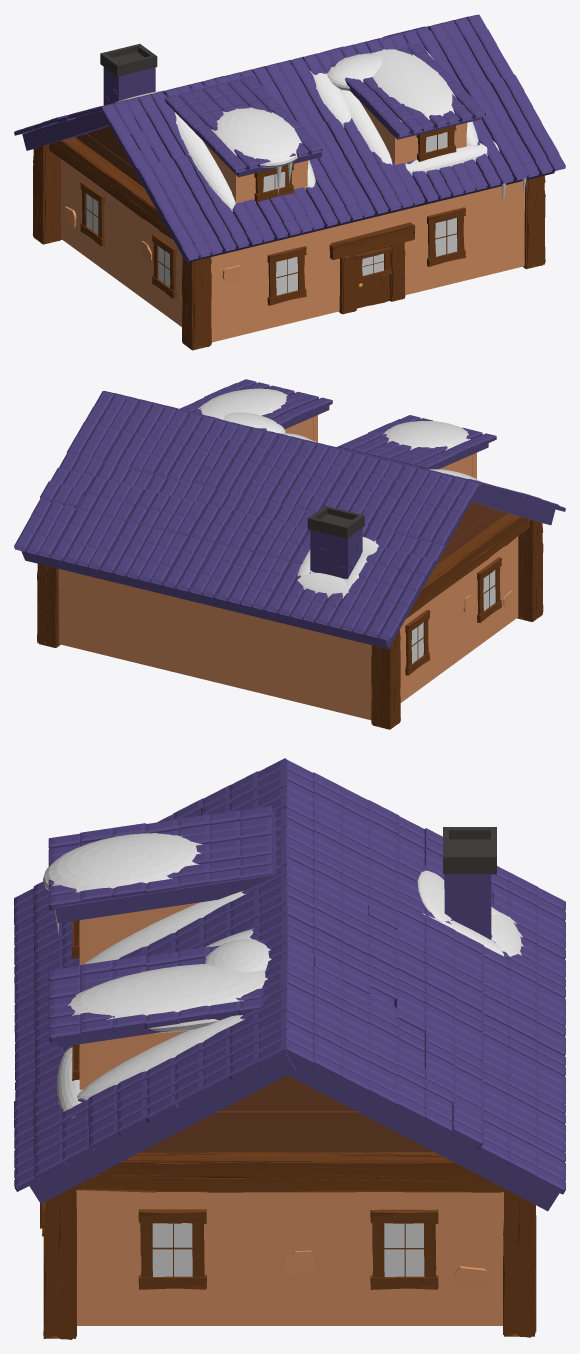
The model's file is BHouse2.fbx.
3 views of the same model, one above another, from view 1: azimuth 30°, elevation 25°; view 2: azimuth 150°, elevation 25°; view 3: azimuth 270°, elevation 25° (orthographic). The views are drawn at different scales.
Parts seen in each view (by area): view 1: Cube.805, Cube.855, Sphere.118, Sphere.119, Cube.1549, Cube.858, Cube.1535, Sphere.123, Cube.1515, Cube.857, Cube.1540, Cube.984 (+20 smaller); view 2: Cube.854, Cube.855, Cube.857, Cube.1549, Cube.984, Sphere.119, Sphere.118, Cube.858, Cube.1538, Cube.1018, Cube.1014, Cube.1533 (+7 smaller); view 3: Cube.856, Cube.975, Sphere.119, Cube.858, Cube.857, Sphere.118, Cube.842, Cube.1512, Cube.841, Cube.1017, Cube.2324, Cube.978 (+19 smaller).
Boxes of the visible parts, box(x1,y1,x2,y2) form: Cube.805: box(211, 181, 524, 342); Cube.855: box(61, 159, 182, 326); Sphere.118: box(211, 107, 302, 167); Sphere.119: box(372, 49, 455, 119); Cube.1549: box(49, 140, 172, 239); Cube.858: box(105, 21, 554, 262); Cube.1535: box(193, 257, 211, 348); Sphere.123: box(174, 112, 235, 211); Cube.1515: box(527, 176, 545, 267); Cube.857: box(22, 111, 108, 150); Cube.1540: box(44, 144, 61, 242); Cube.984: box(103, 67, 155, 105); Cube.854: box(58, 569, 371, 719); Cube.855: box(400, 536, 518, 702); Cube.857: box(21, 398, 471, 649); Cube.1549: box(406, 517, 529, 618); Cube.984: box(310, 528, 362, 578); Sphere.119: box(197, 388, 287, 419); Sphere.118: box(383, 421, 470, 450); Cube.858: box(472, 487, 555, 525); Cube.1538: box(372, 645, 390, 729); Cube.1018: box(38, 564, 55, 645); Cube.1014: box(307, 506, 364, 538); Cube.1533: box(518, 529, 532, 621); Cube.856: box(76, 1190, 503, 1325); Cube.975: box(77, 1162, 505, 1191); Sphere.119: box(67, 964, 267, 1033); Cube.858: box(29, 1054, 295, 1203); Cube.857: box(287, 1054, 559, 1211); Sphere.118: box(43, 833, 202, 892); Cube.842: box(172, 1111, 402, 1135); Cube.1512: box(44, 1187, 76, 1339); Cube.841: box(140, 1136, 433, 1152); Cube.1017: box(503, 1192, 535, 1337); Cube.2324: box(55, 811, 280, 923); Cube.978: box(124, 1152, 453, 1162).
Bounding box in the file's own units: 2059 × 993 × 1650.
